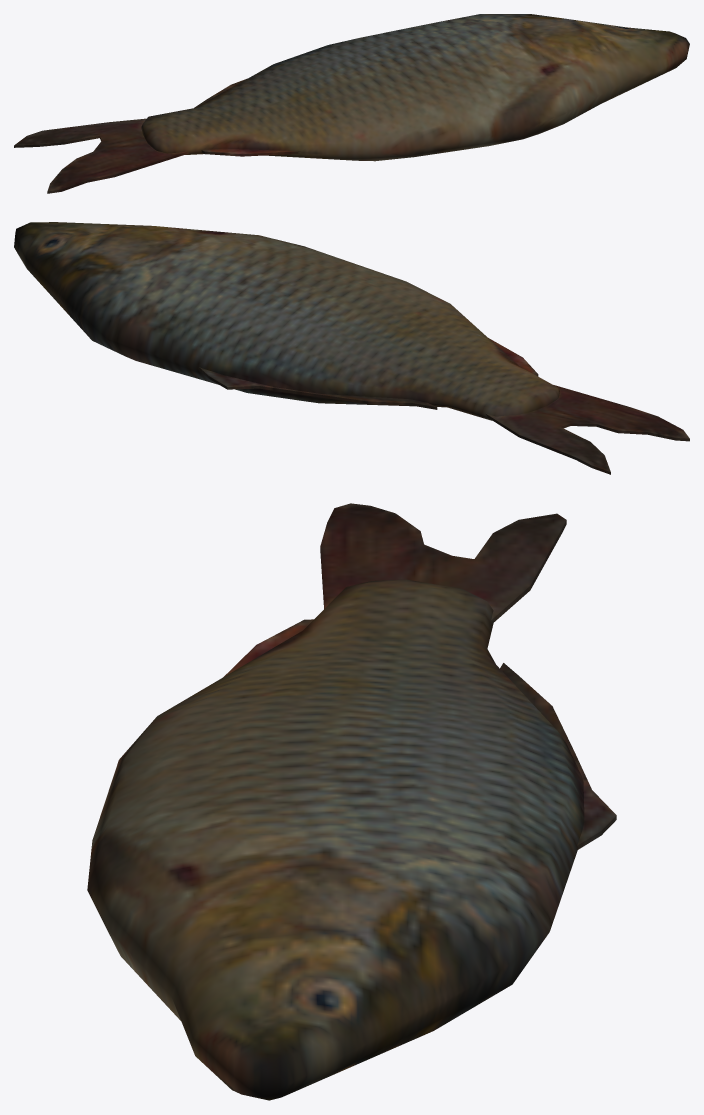
Rendered from fish_mx_1.obj.
3 renders of one model, top to bottom at view 1: azimuth 30°, elevation 25°; view 2: azimuth 150°, elevation 25°; view 3: azimuth 270°, elevation 25°, orthographic. The views are drawn at different scales.
Parts seen in each view (by area): view 1: fish_mx_1; view 2: fish_mx_1; view 3: fish_mx_1.
Boxes of the visible parts, x1,y1,x2,y2 form: fish_mx_1: (14, 14, 689, 193); fish_mx_1: (14, 222, 689, 474); fish_mx_1: (87, 503, 616, 1100).
Size of the model in its own units: 0.5543 by 0.0641 by 0.2052.
